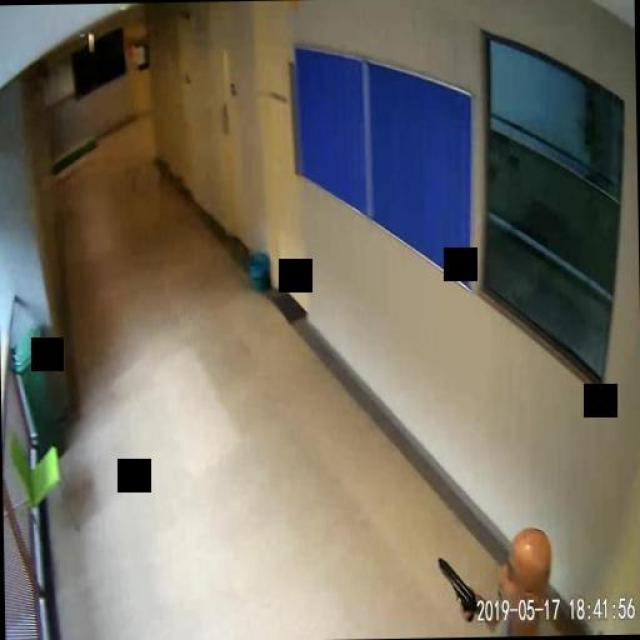gun: (437, 556, 478, 620)
